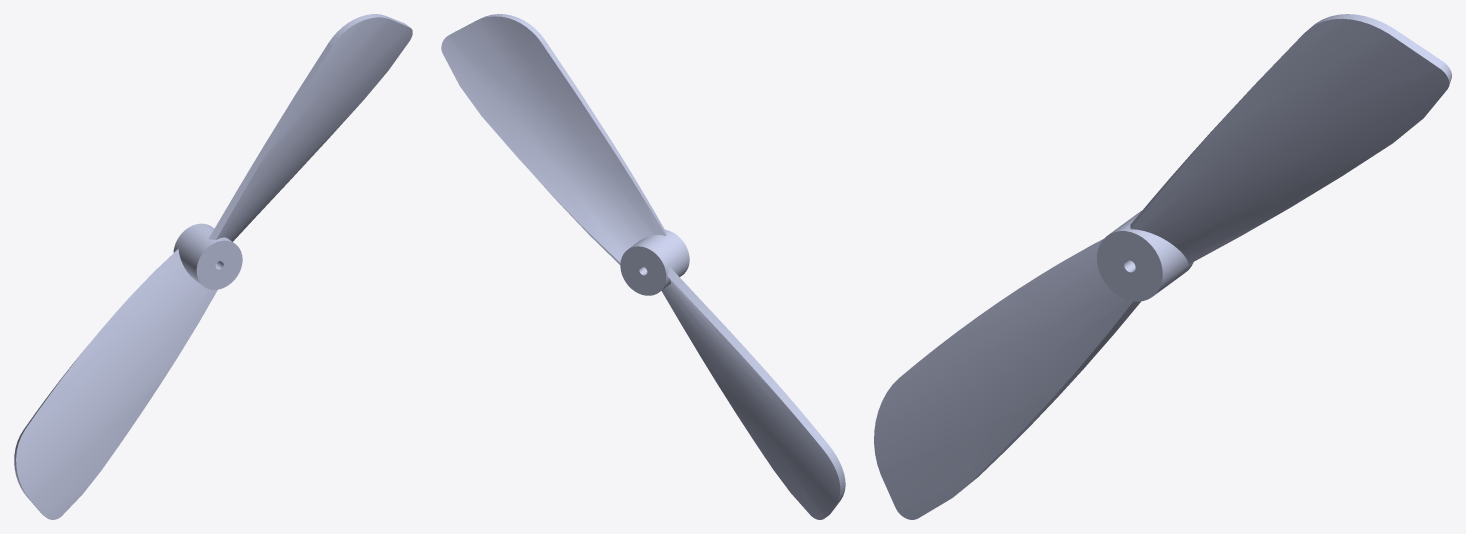
Rendered from propeller2.obj.
3 views of the same model, side by side, from view 1: azimuth 30°, elevation 25°; view 2: azimuth 150°, elevation 25°; view 3: azimuth 330°, elevation 25° (orthographic). The views are drawn at different scales.
Size of the model in its own units: 0.0346 by 0.0353 by 0.00352.
